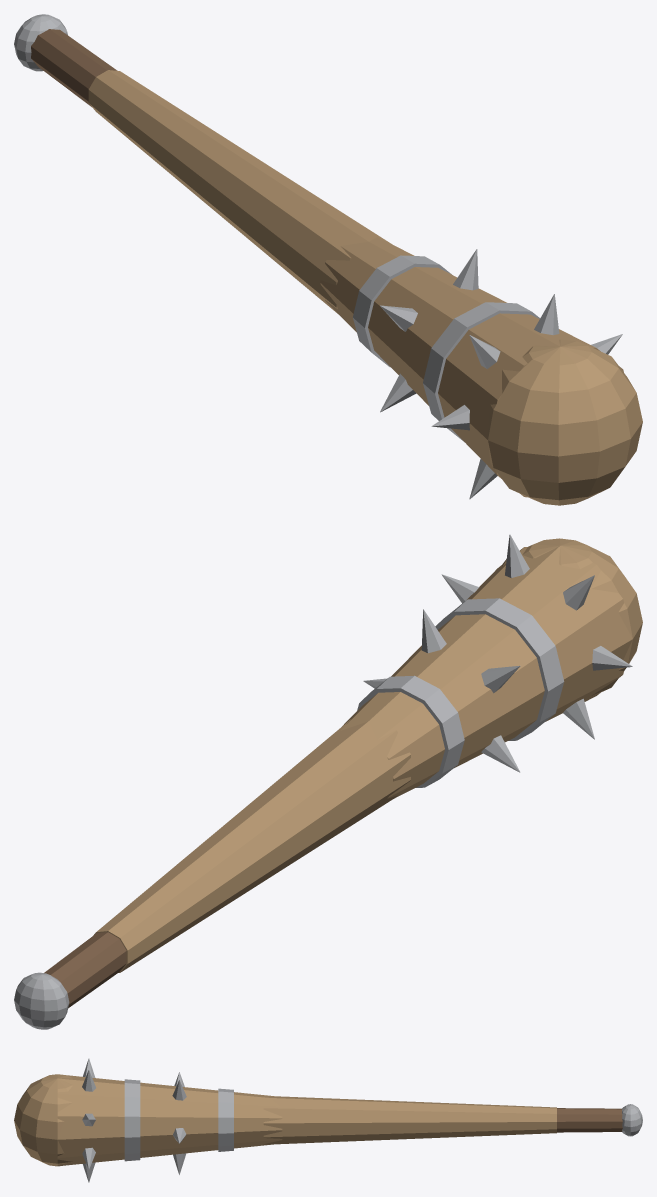
Rendered from SM_Club_Big.fbx.
3 views of the same model, one above another, from view 1: azimuth 30°, elevation 25°; view 2: azimuth 150°, elevation 25°; view 3: azimuth 270°, elevation 25° (orthographic). The views are drawn at different scales.
Parts seen in each view (by area): view 1: SM_Club_Big; view 2: SM_Club_Big; view 3: SM_Club_Big.
Part boxes in pixels (x1,y1,x2,y2): SM_Club_Big: (14, 14, 642, 505); SM_Club_Big: (14, 534, 642, 1029); SM_Club_Big: (14, 1058, 642, 1182).
Bounding box in the file's own units: 0.3899 × 0.3999 × 2.02.
